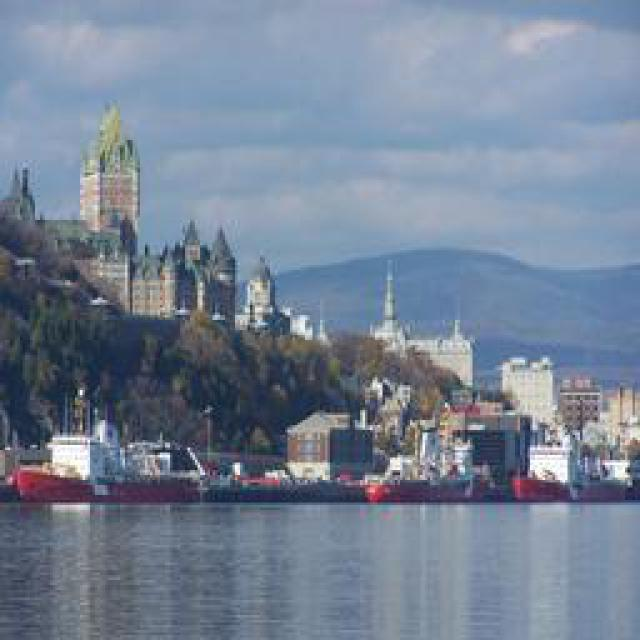Ship: (16, 388, 213, 504), (362, 419, 504, 511), (515, 398, 637, 505)
